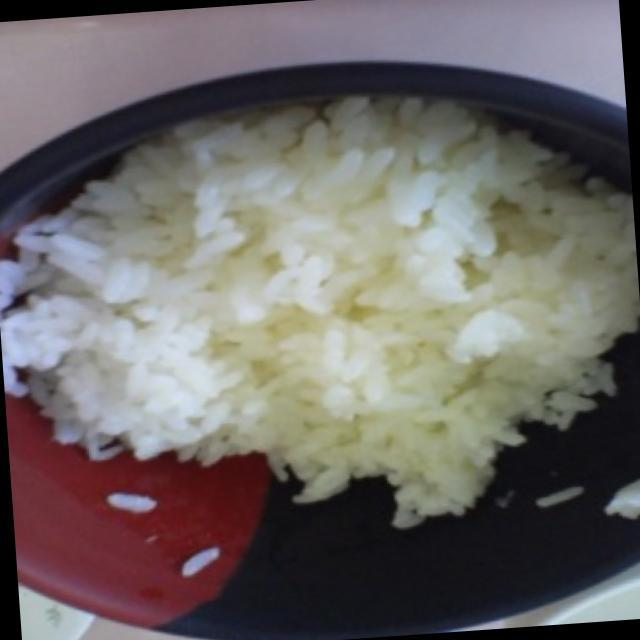Rice: (0, 77, 640, 513)
